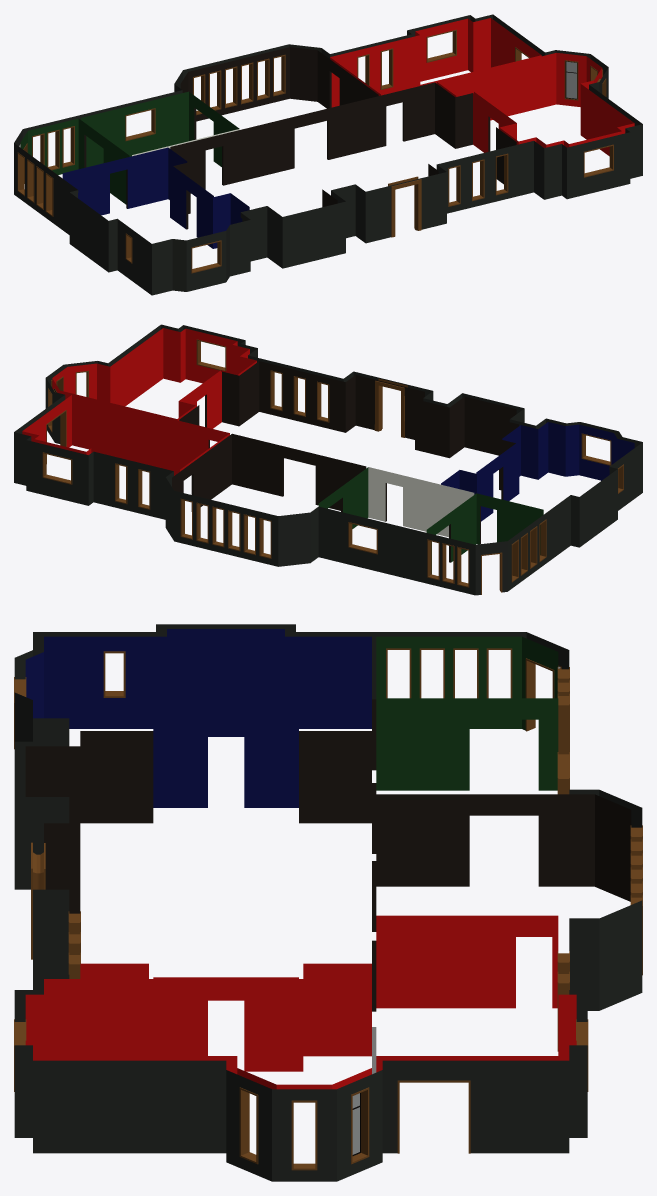
The model's file is Gfloortext.fbx.
The picture shows the model from 3 angles, top to bottom: view 1: azimuth 30°, elevation 25°; view 2: azimuth 150°, elevation 25°; view 3: azimuth 270°, elevation 25°; orthographic projection. The views are drawn at different scales.
Visible parts, largest first — view 1: Ground floor; view 2: Ground floor; view 3: Ground floor.
Part boxes in pixels (left/top/right/bottom): Ground floor: left=14, top=14, right=642, bottom=295; Ground floor: left=14, top=324, right=642, bottom=595; Ground floor: left=14, top=624, right=642, bottom=1181.
Bounding box in the file's own units: 1189 × 110 × 680.
